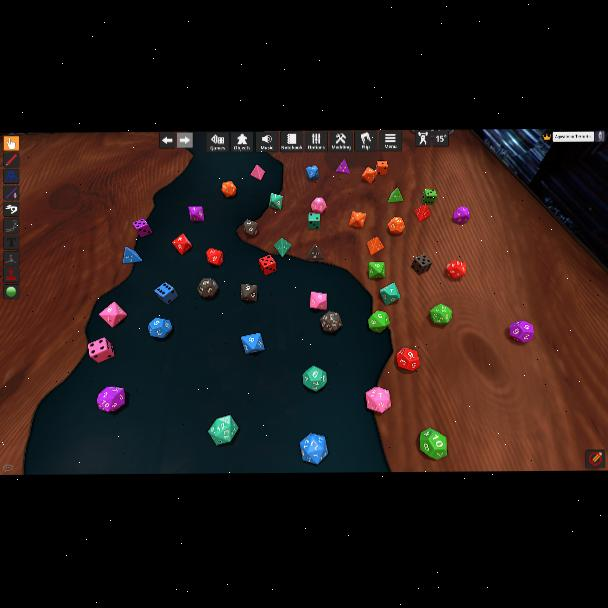d10: (368, 311, 390, 333), (380, 284, 400, 305), (206, 248, 222, 267), (310, 292, 326, 310), (454, 207, 470, 225), (361, 167, 377, 184), (244, 220, 258, 237), (306, 165, 318, 180)
d12: (419, 428, 447, 459), (302, 366, 326, 391), (395, 348, 420, 372), (509, 321, 534, 344), (148, 317, 172, 338), (198, 279, 218, 298), (388, 217, 404, 235), (311, 198, 325, 214)
d20: (208, 414, 238, 443), (300, 433, 326, 464), (365, 387, 391, 414), (97, 387, 125, 412), (320, 310, 342, 333), (430, 302, 452, 323), (446, 260, 466, 280), (222, 181, 236, 197)
d4: (122, 246, 142, 264), (415, 204, 432, 222), (368, 237, 384, 256), (274, 238, 290, 257), (306, 244, 322, 259), (250, 164, 264, 180), (388, 188, 402, 203), (335, 159, 349, 174)
d6: (87, 337, 115, 362), (155, 282, 179, 304), (411, 254, 433, 274), (132, 218, 152, 238), (258, 255, 276, 275), (421, 189, 436, 205), (308, 213, 320, 230), (376, 160, 388, 174)
d8: (99, 303, 127, 327), (241, 333, 264, 354), (172, 235, 192, 255), (240, 284, 256, 302), (349, 211, 365, 228), (368, 262, 384, 279), (188, 205, 204, 222), (270, 193, 283, 211)
